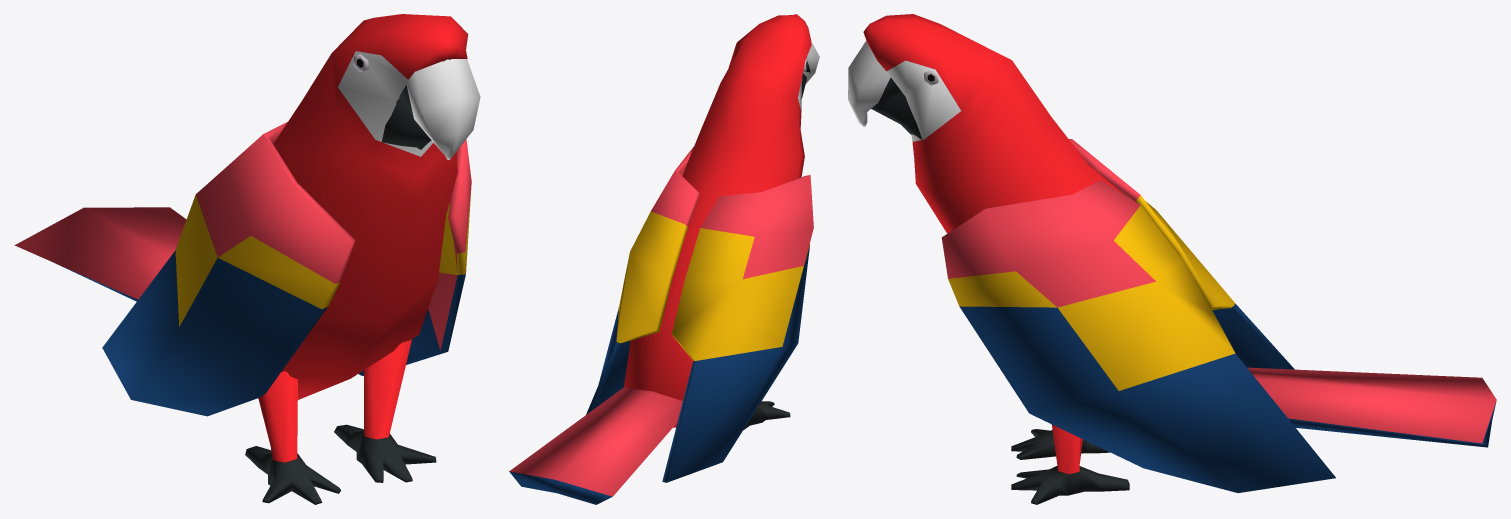
Rendered from parrot.glb.
3 views of the same model, side by side, from view 1: azimuth 30°, elevation 25°; view 2: azimuth 150°, elevation 25°; view 3: azimuth 270°, elevation 25° (orthographic). The views are drawn at different scales.
Parts seen in each view (by area): view 1: Geo_Parrot, Wing2, Tail, Wing1; view 2: Wing2, Geo_Parrot, Tail, Wing1; view 3: Wing1, Geo_Parrot, Tail, Wing2.
Part boxes in pixels (box(x1,y1,x2,y2)): Geo_Parrot: box(245, 14, 480, 504); Wing2: box(102, 122, 355, 416); Tail: box(14, 207, 186, 301); Wing1: box(358, 139, 471, 375); Wing2: box(662, 175, 813, 482); Geo_Parrot: box(624, 14, 819, 430); Tail: box(509, 387, 682, 504); Wing1: box(586, 146, 699, 414); Wing1: box(941, 180, 1335, 492); Geo_Parrot: box(848, 14, 1129, 504); Tail: box(1247, 367, 1496, 447); Wing2: box(1069, 139, 1294, 369).
Bounding box in the file's own units: 0.0544 × 0.1101 × 0.1438.
1 material, 1 textured.
